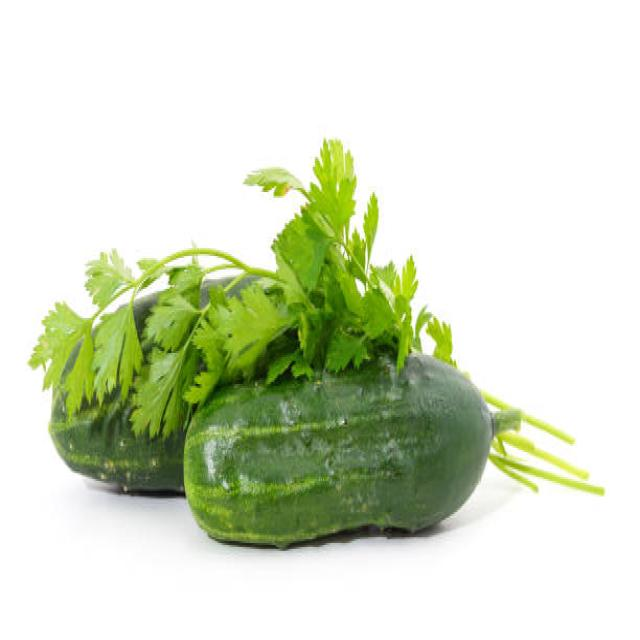cucumber: (183, 351, 491, 550)
